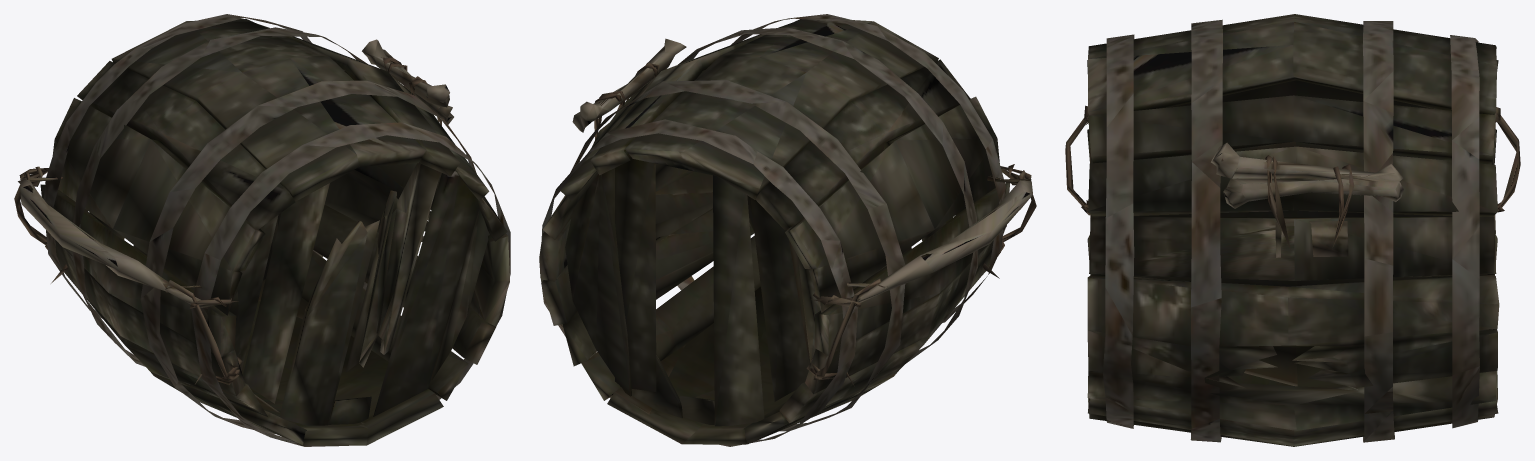
Rendered from KolossBarril.glb.
3 renders of one model, left to right at view 1: azimuth 30°, elevation 25°; view 2: azimuth 150°, elevation 25°; view 3: azimuth 270°, elevation 25°, orthographic. The views are drawn at different scales.
Visible parts, largest first — view 1: KolossBarril; view 2: KolossBarril; view 3: KolossBarril.
Boxes of the visible parts, x1=… form: KolossBarril: x1=14, y1=14, x2=510, y2=446; KolossBarril: x1=539, y1=14, x2=1036, y2=446; KolossBarril: x1=1065, y1=14, x2=1520, y2=446.
Bounding box in the file's own units: 1.33 × 1.1 × 1.18.
1 material, 1 textured.
